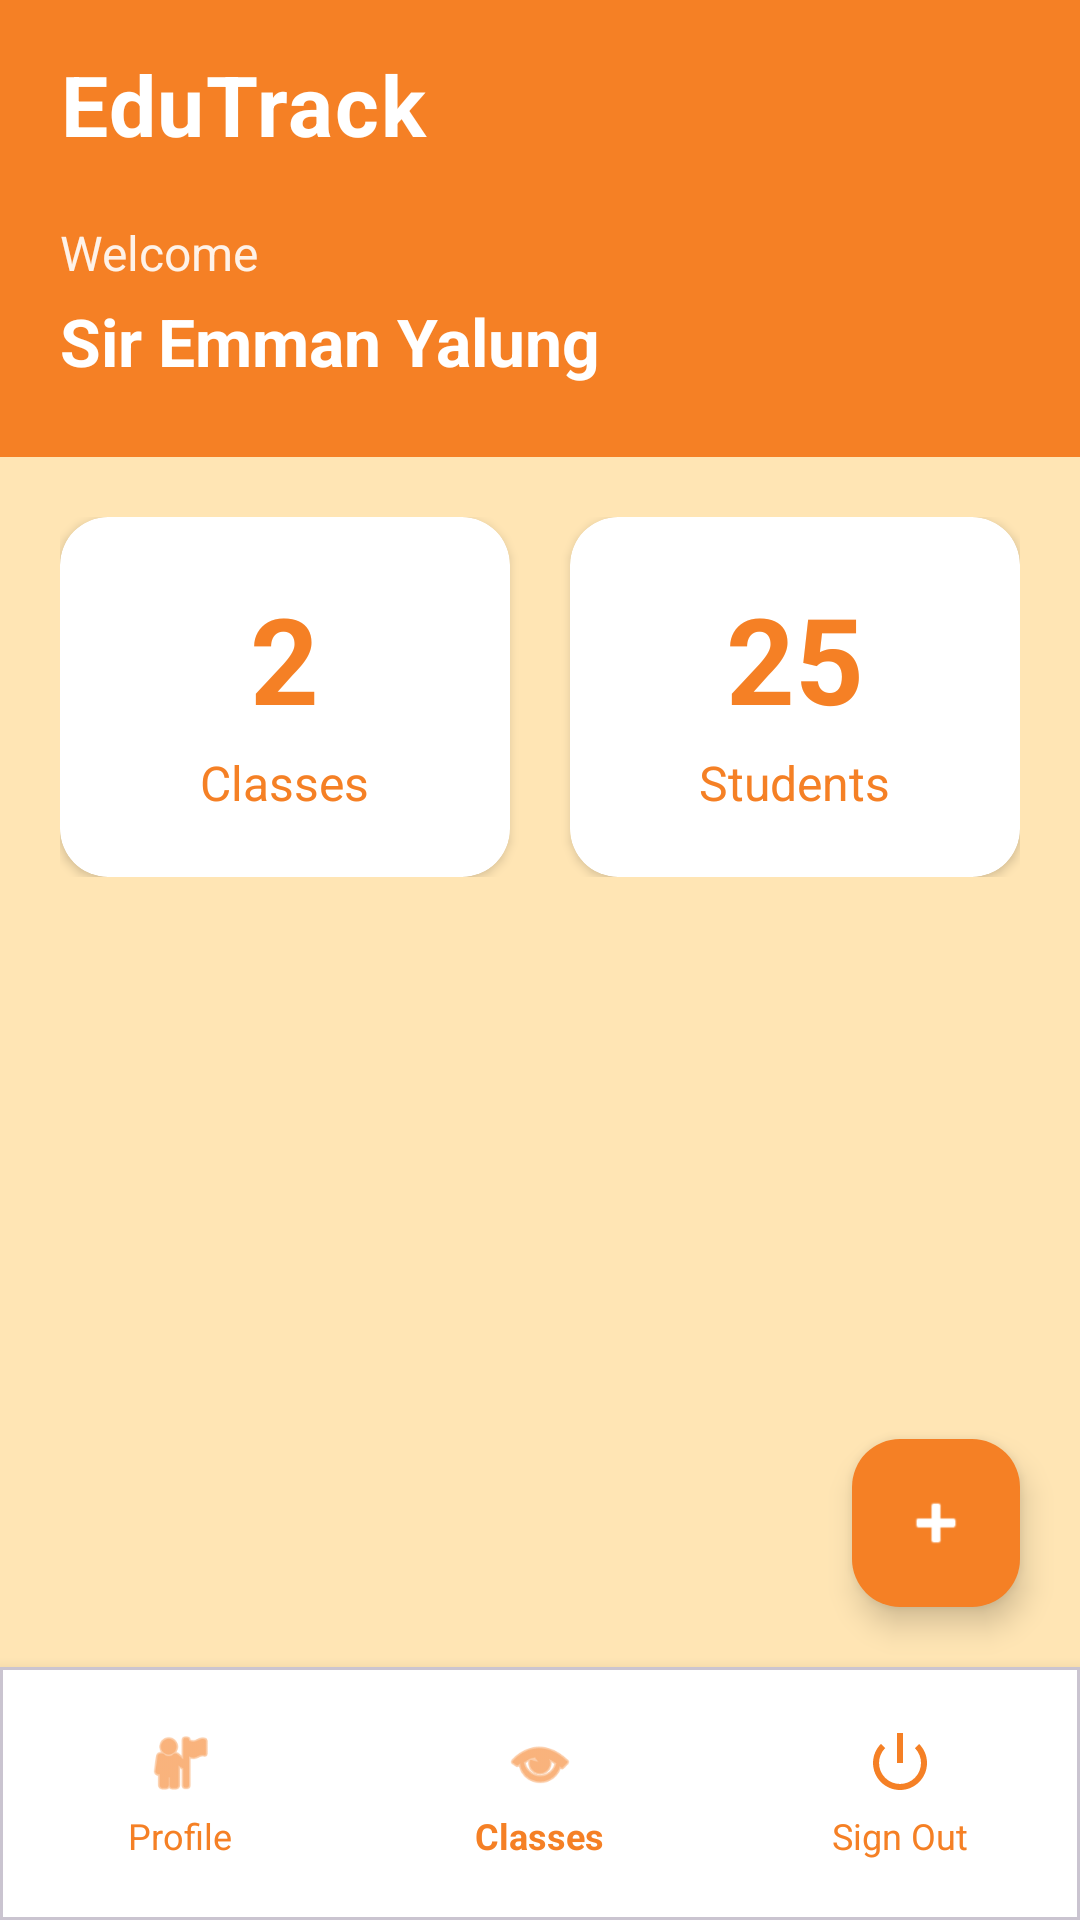

Point at icon controls on the screen. Image size 1080px x 1920px, points as [x,y].
Add Class: [936,1523]
